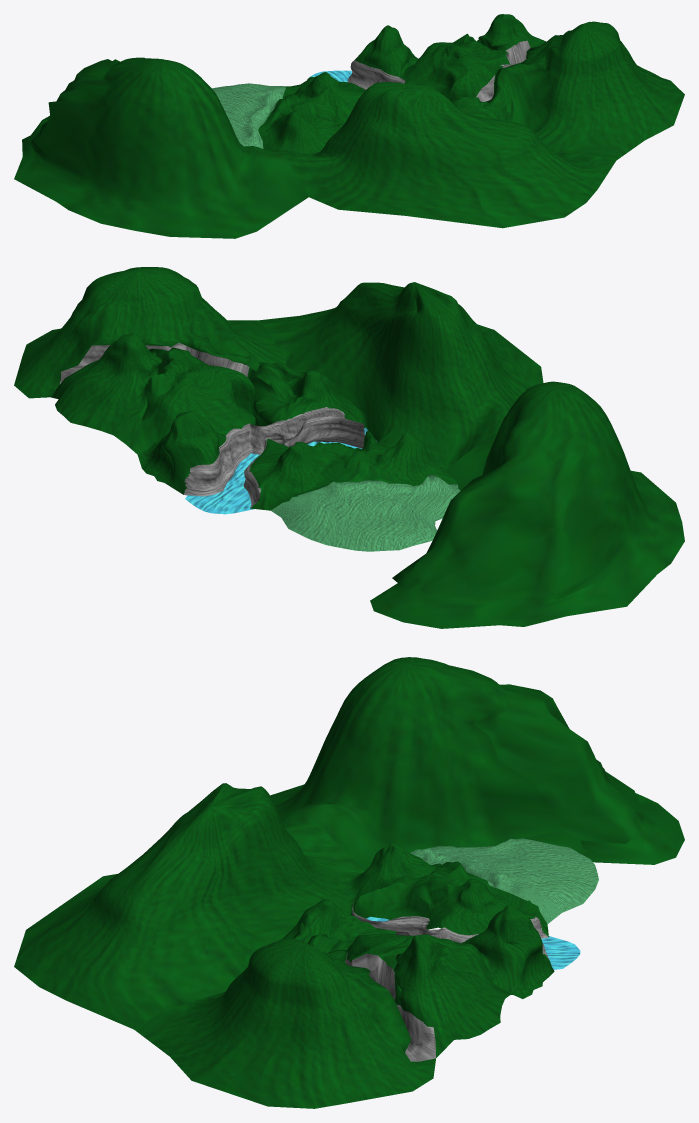
The model's file is Mountain_CompletePack_000.obj.
The picture shows the model from 3 angles, top to bottom: view 1: azimuth 30°, elevation 25°; view 2: azimuth 150°, elevation 25°; view 3: azimuth 270°, elevation 25°; orthographic projection. The views are drawn at different scales.
Visible parts, largest first — view 1: polySurface17; view 2: polySurface17; view 3: polySurface17.
Boxes of the visible parts, box(x1,y1,x2,y2) form: polySurface17: box(14, 14, 684, 238); polySurface17: box(14, 267, 684, 628); polySurface17: box(14, 657, 684, 1108).
Size of the model in its own units: 5949 by 1209 by 4534.
